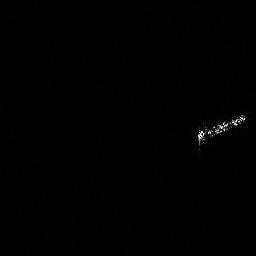ship: (197, 110, 246, 154)
